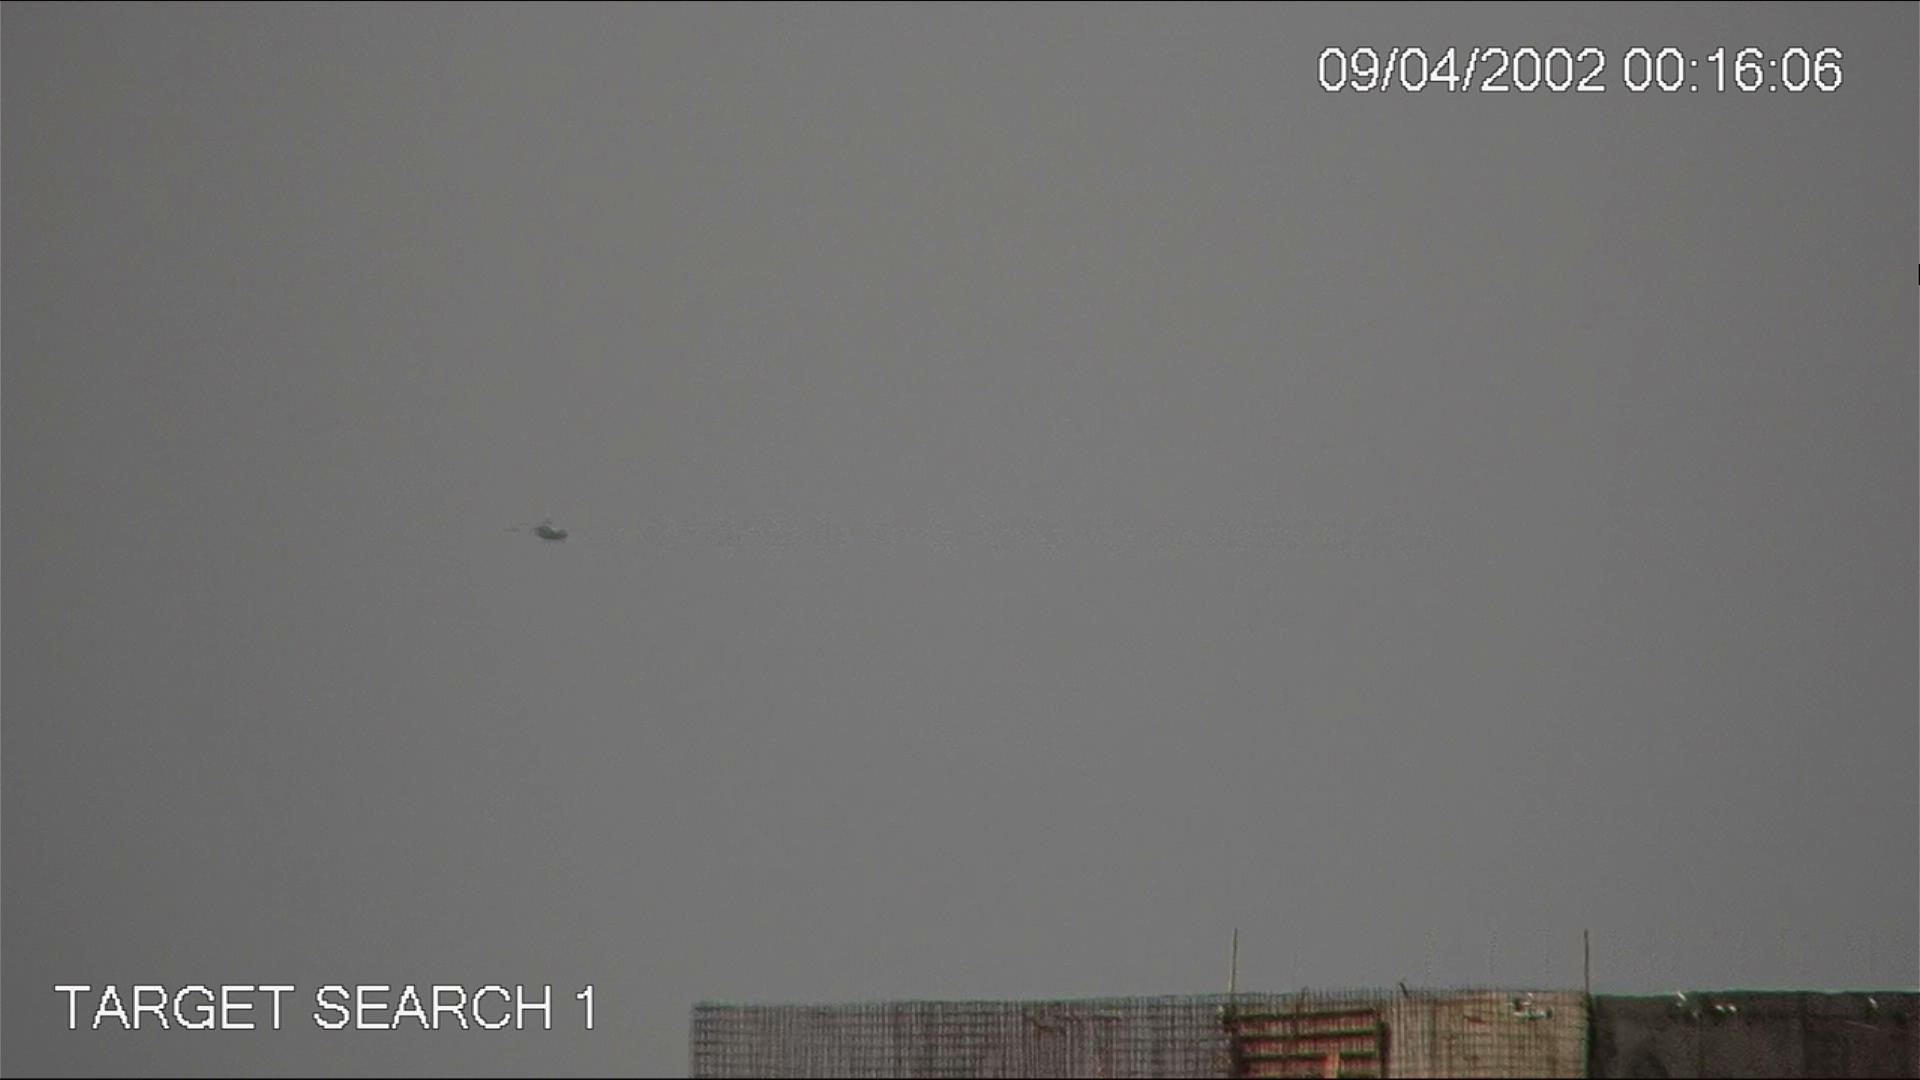SU_30: (534, 522, 566, 541)
